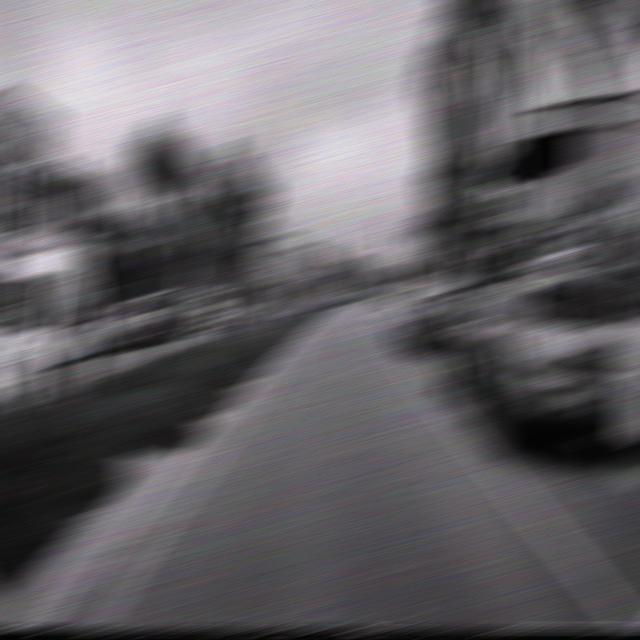speedLimit25: (422, 230, 446, 256)
